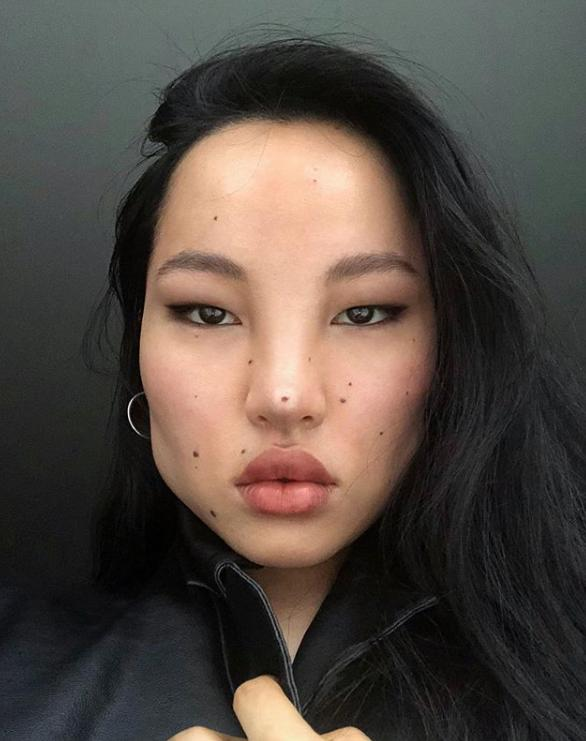Eyes: (159, 284, 251, 343), (325, 284, 410, 341)
